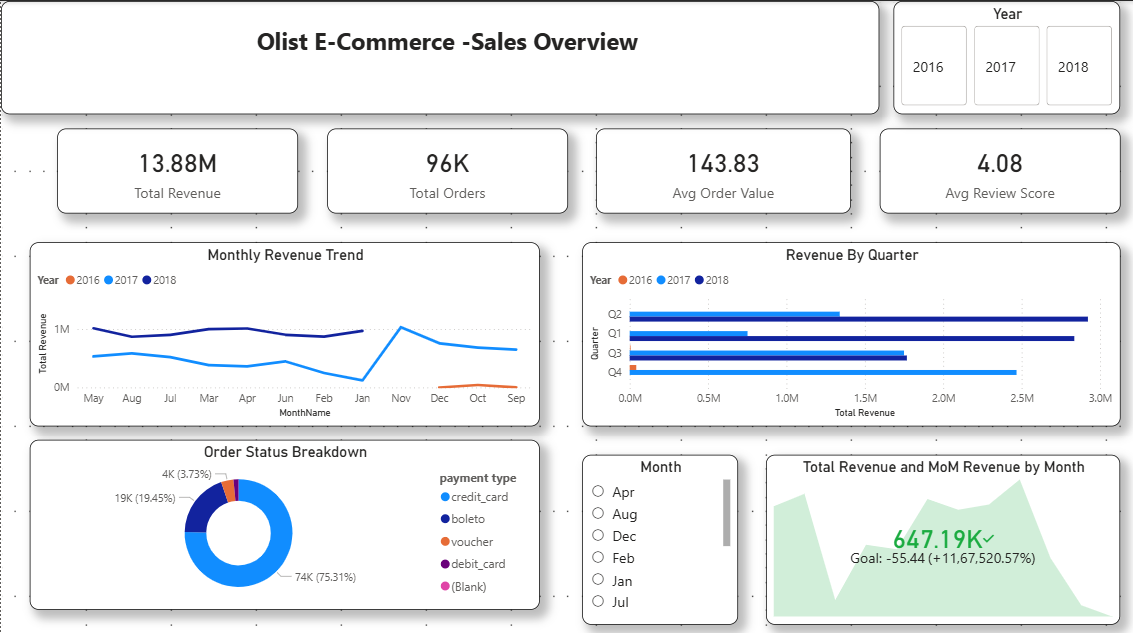

This screenshot's page, from the dashboard's own definition file:
{"tool":"powerbi","page":{"name":"SALES OVERVIEW","canvas":[1280,720],"ordinal":0},"visuals":[{"type":"card","fields":{"Values":["KPI.Total Revenue"]},"box":[64,144,272,96],"z":0},{"type":"card","fields":{"Values":["KPI.Total Orders"]},"box":[368,144,272,96],"z":1000},{"type":"card","fields":{"Values":["KPI.Avg Order Value"]},"box":[672,144,288,96],"z":2000},{"type":"card","fields":{"Values":["KPI.Avg Review Score"]},"box":[992,144,272,96],"z":3000},{"type":"lineChart","title":"Monthly Revenue Trend","fields":{"Category":["DimDate.MonthName"],"Series":["DimDate.Year"],"Y":["KPI.Total Revenue"]},"box":[32,272,576,208],"z":4000},{"type":"clusteredBarChart","title":"Revenue By Quarter","fields":{"Category":["DimDate.Quarter"],"Series":["DimDate.Year"],"Y":["KPI.Total Revenue"]},"box":[656,272,608,208],"z":5000},{"type":"donutChart","title":"Revenue by Payment Type","fields":{"Category":["FactOrders.payment_type"],"Y":["KPI.Total Orders"]},"box":[32,496,576,192],"z":6000},{"type":"kpi","title":"Total Revenue and MoM Revenue by Month","fields":{"Goal":["KPI.previous month rev"],"Indicator":["KPI.Total Revenue"],"TrendLine":["DimDate.MonthName"]},"box":[864,512,400,192],"z":7000},{"type":"textbox","box":[0,0,992,128],"z":8000},{"type":"advancedSlicerVisual","fields":{"Values":["DimDate.Year"]},"box":[1008,0,256,128],"z":9000},{"type":"listSlicer","title":"Month","fields":{"Values":["DimDate.MonthName"]},"box":[656,512,176,192],"z":10000}]}

Visuals, with their boxes in screenshot pixels (x1, y1, x2, y2), scaled from the page's 1280x720 canvas onto the 1133x633 screenshot:
card - KPI.Total Revenue: BBox(57, 127, 297, 211)
card - KPI.Total Orders: BBox(326, 127, 566, 211)
card - KPI.Avg Order Value: BBox(595, 127, 850, 211)
card - KPI.Avg Review Score: BBox(878, 127, 1119, 211)
"Monthly Revenue Trend" lineChart: BBox(28, 239, 538, 422)
"Revenue By Quarter" clusteredBarChart: BBox(581, 239, 1119, 422)
"Revenue by Payment Type" donutChart: BBox(28, 436, 538, 605)
"Total Revenue and MoM Revenue by Month" kpi: BBox(765, 450, 1119, 619)
textbox: BBox(0, 0, 878, 113)
advancedSlicerVisual - DimDate.Year: BBox(892, 0, 1119, 113)
"Month" listSlicer: BBox(581, 450, 736, 619)
